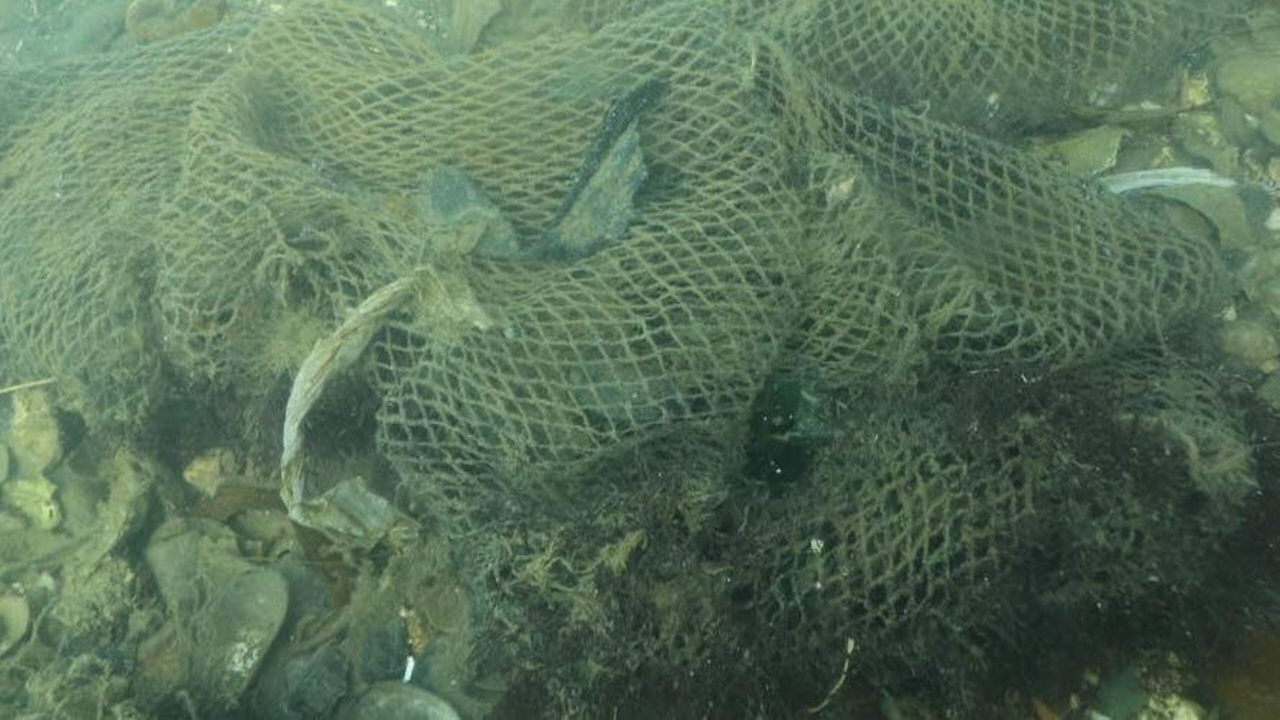fish net: (0, 0, 1240, 651)
